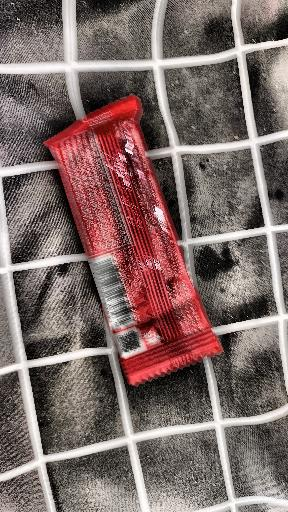chocho: (36, 97, 237, 390)
